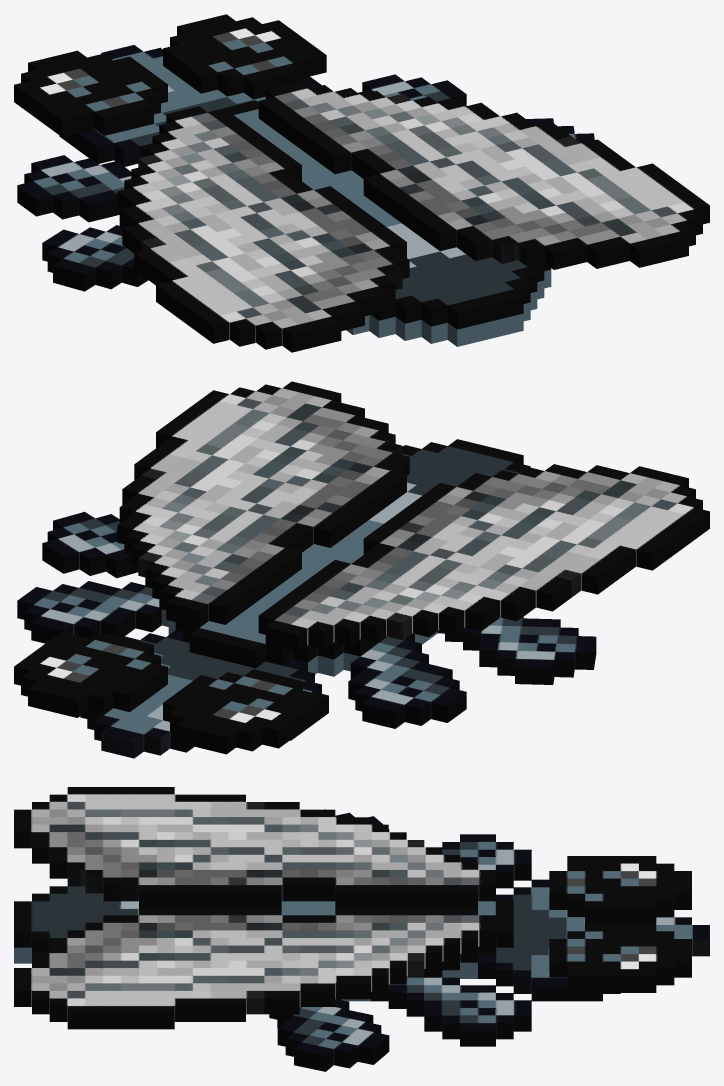
The model's file is Mosca_v2.fbx.
The picture shows the model from 3 angles, top to bottom: view 1: azimuth 30°, elevation 25°; view 2: azimuth 150°, elevation 25°; view 3: azimuth 270°, elevation 25°; orthographic projection. The views are drawn at different scales.
Parts seen in each view (by area): view 1: Ala_Lf (×2), Ojo_Lf (×2), Cuerpo, Pata_Delantera_Lf (×2), Cabeza, Pata_Trasera_Lf; view 2: Ala_Lf (×2), Ojo_Lf (×2), Pata_Delantera_Lf (×2), Cuerpo, Pata_Trasera_Lf (×2), Cabeza; view 3: Ala_Lf (×2), Ojo_Lf (×2), Pata_Delantera_Lf (×2), Cabeza, Cuerpo, Pata_Trasera_Lf.
Boxes of the visible parts, <box> form: Ala_Lf (×2): <box>117,82,709,352</box>; Ojo_Lf (×2): <box>14,14,326,136</box>; Cuerpo: <box>208,100,551,346</box>; Pata_Delantera_Lf (×2): <box>17,74,466,222</box>; Cabeza: <box>59,45,321,166</box>; Pata_Trasera_Lf: <box>42,225,148,291</box>; Ala_Lf (×2): <box>117,381,709,651</box>; Ojo_Lf (×2): <box>14,632,326,754</box>; Pata_Delantera_Lf (×2): <box>17,581,466,728</box>; Cuerpo: <box>161,439,530,676</box>; Pata_Trasera_Lf (×2): <box>42,511,596,684</box>; Cabeza: <box>80,630,328,758</box>; Ala_Lf (×2): <box>14,787,495,1029</box>; Ojo_Lf (×2): <box>549,856,691,992</box>; Pata_Delantera_Lf (×2): <box>371,834,531,1046</box>; Cabeza: <box>478,879,709,1001</box>; Cuerpo: <box>14,886,513,1001</box>; Pata_Trasera_Lf: <box>269,999,389,1071</box>.
Size of the model in its own units: 32.68 by 3 by 39.
